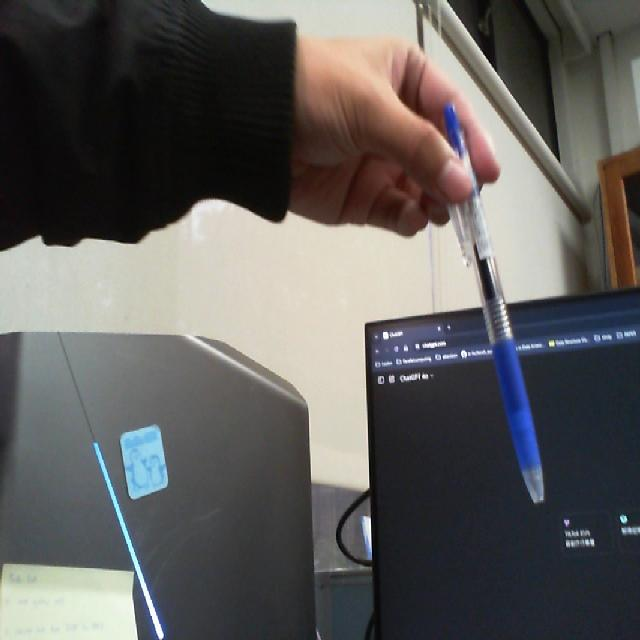Pen: (432, 89, 552, 519)
